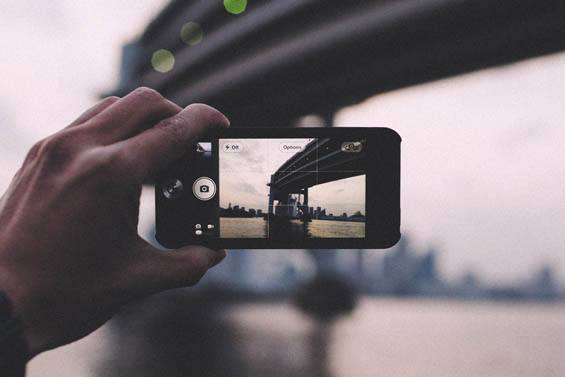taking photos: (2, 83, 407, 353)
